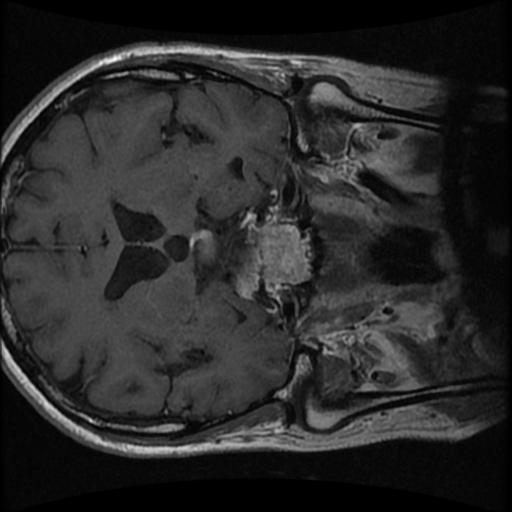pituitary tumour: (188, 207, 260, 300)
